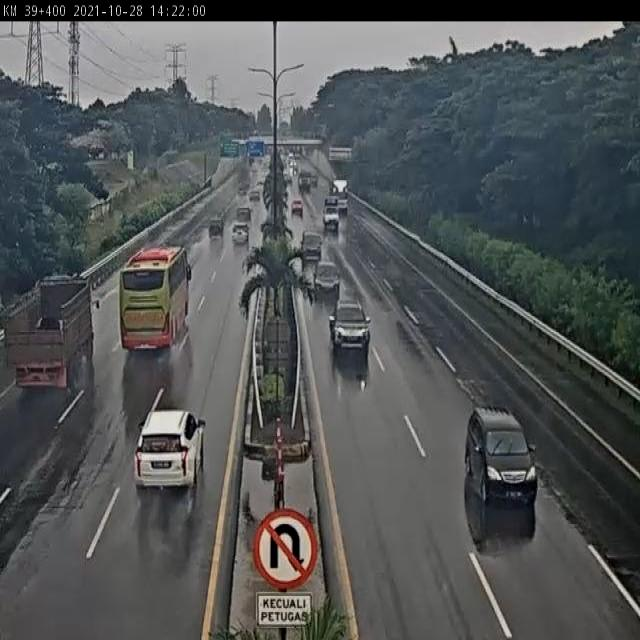Bus: (119, 244, 192, 352), (329, 177, 351, 213)
Car: (465, 402, 540, 502), (133, 410, 206, 490), (328, 299, 373, 352), (314, 261, 340, 297), (300, 230, 324, 260), (207, 212, 225, 238), (232, 221, 249, 245), (236, 205, 253, 223), (291, 199, 303, 215), (248, 190, 260, 201)
Truck: (0, 270, 100, 396), (322, 196, 341, 229), (297, 170, 312, 192), (310, 170, 320, 187)
